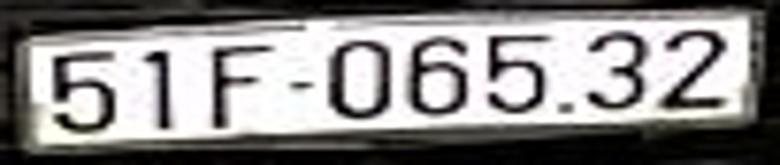-: (287, 78, 318, 93)
.: (556, 95, 577, 120)
0: (328, 40, 394, 124)
1: (142, 46, 178, 136)
2: (658, 28, 732, 111)
3: (586, 29, 650, 111)
5: (48, 52, 120, 133), (484, 32, 553, 116)
6: (406, 35, 470, 117)
F: (209, 40, 275, 129)
